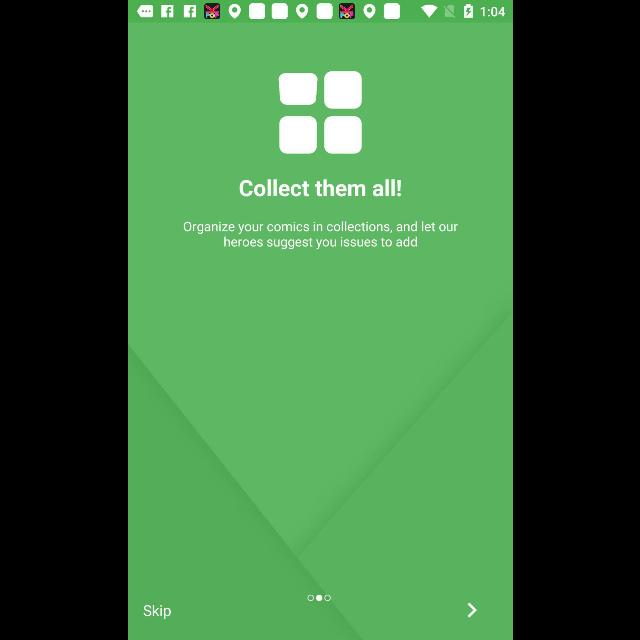icon: (466, 602, 476, 618)
image: (278, 72, 362, 154)
pageindicator: (306, 594, 330, 602)
text: (182, 220, 458, 250), (239, 179, 401, 197), (142, 604, 172, 620)
uppertaskbar: (128, 1, 512, 23)
